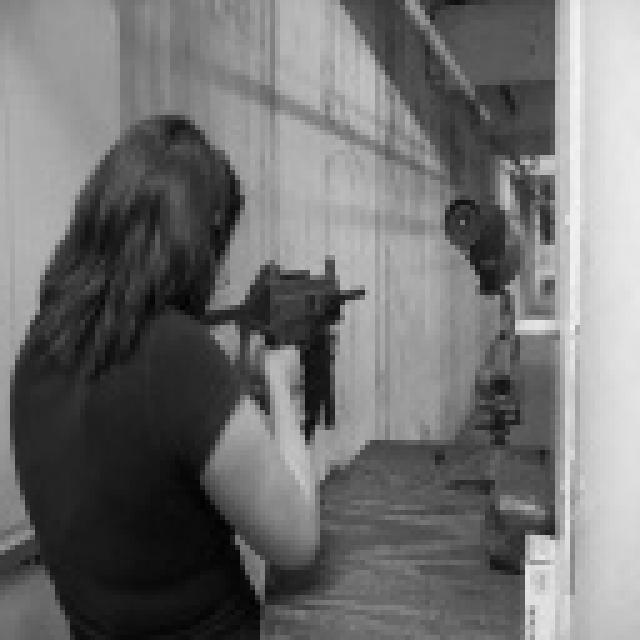Rifle: (159, 248, 405, 454)
